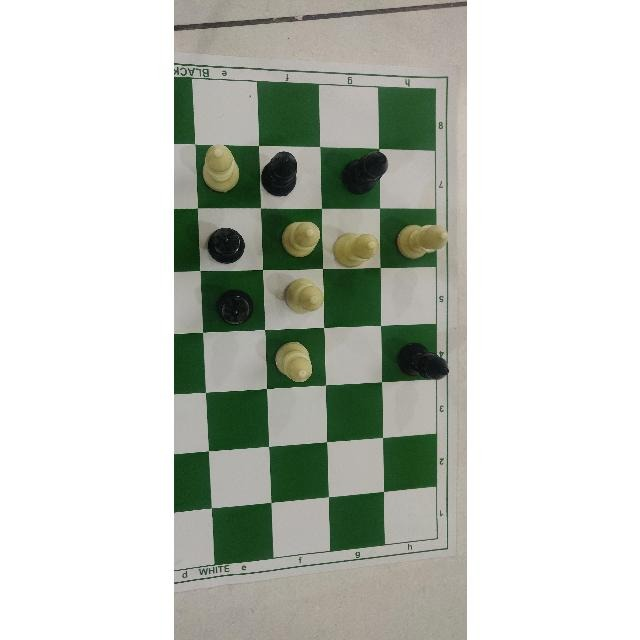black-bishop: (336, 146, 390, 198), (395, 337, 449, 382), (259, 148, 299, 202), (202, 221, 246, 269), (212, 286, 254, 326)
white-bishop: (393, 221, 449, 263), (200, 143, 240, 195), (272, 339, 313, 386), (331, 229, 379, 269), (282, 277, 324, 317), (279, 219, 321, 258)
